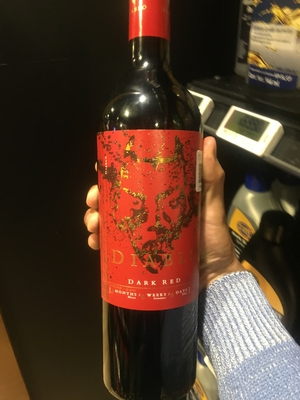diablo dark red: (82, 8, 224, 400)
